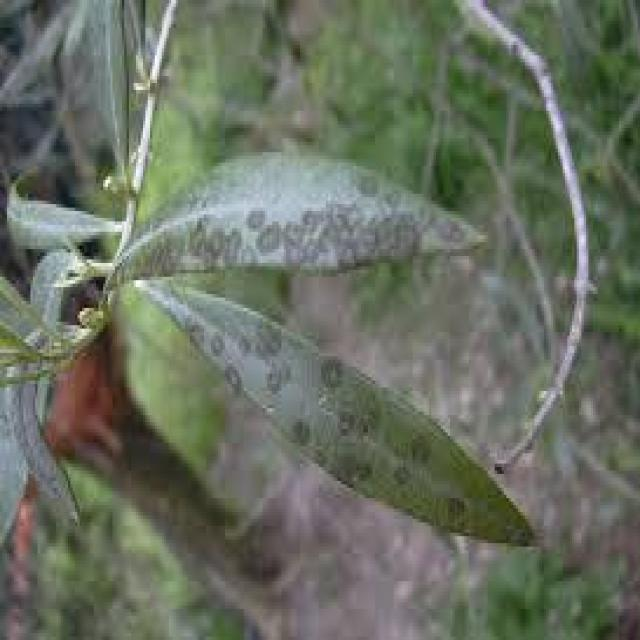Peacock Eye: (148, 280, 535, 543), (136, 152, 474, 273)
